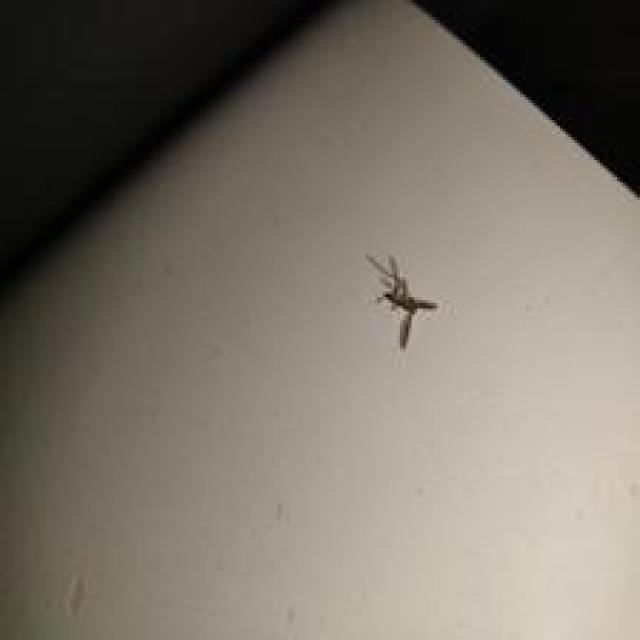Culex: (364, 252, 439, 352)
